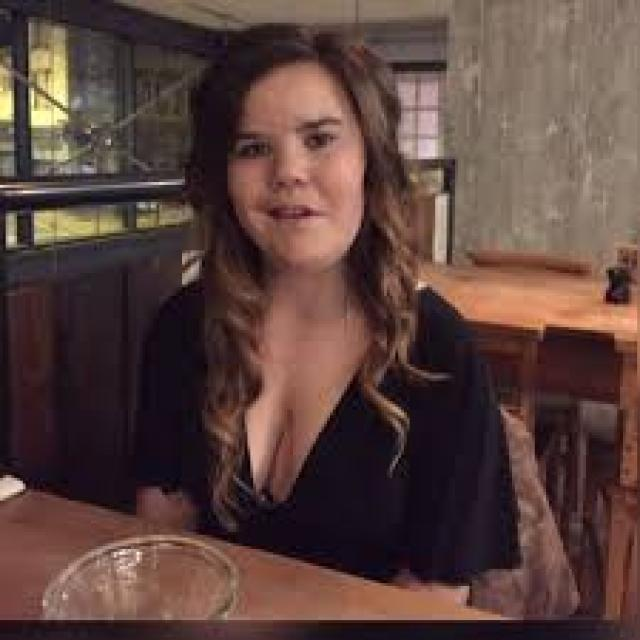stroke_face: (172, 57, 412, 288)
